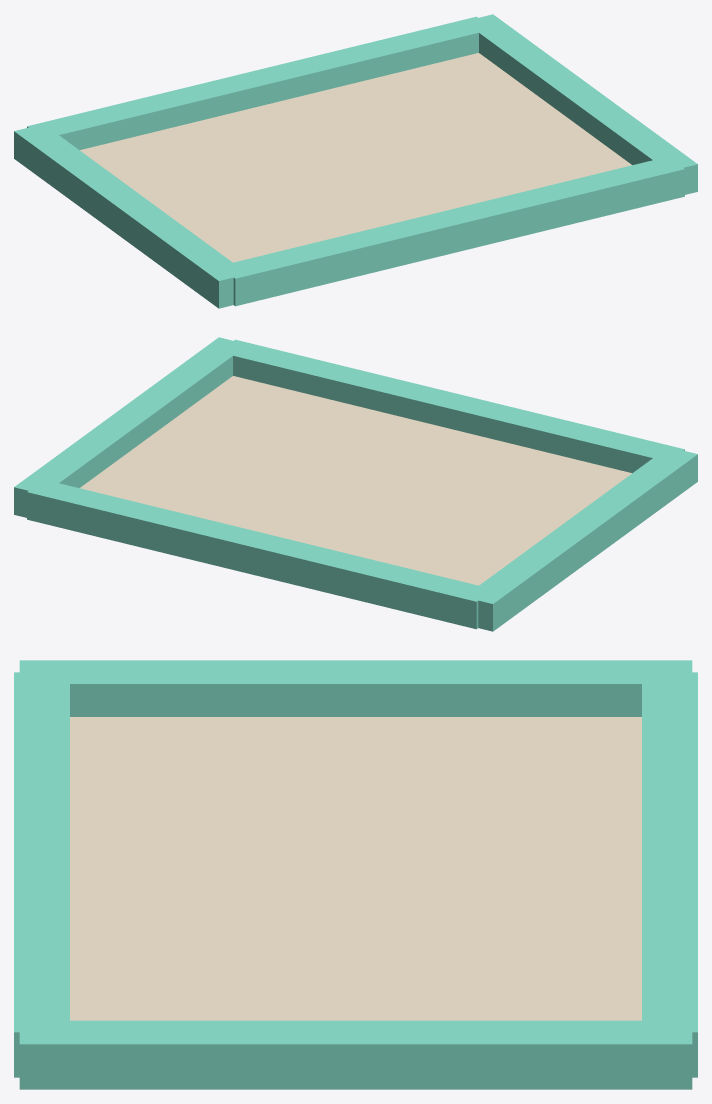
3 renders of one model, top to bottom at view 1: azimuth 30°, elevation 25°; view 2: azimuth 150°, elevation 25°; view 3: azimuth 270°, elevation 25°, orthographic. The views are drawn at different scales.
Visible parts, largest first — view 1: Tray floor, End lip, End lip.001, Side lip, Side lip.001; view 2: Tray floor, End lip.001, End lip, Side lip, Side lip.001; view 3: Tray floor, Side lip.001, Side lip, End lip.001, End lip.
Boxes of the visible parts, left/top/right/bottom form: Tray floor: left=80, top=53, right=631, bottom=262; End lip: left=233, top=160, right=684, bottom=306; End lip.001: left=27, top=16, right=493, bottom=150; Side lip: left=14, top=127, right=247, bottom=308; Side lip.001: left=479, top=14, right=697, bottom=194; Tray floor: left=80, top=376, right=631, bottom=585; End lip.001: left=27, top=479, right=492, bottom=629; End lip: left=233, top=339, right=684, bottom=473; Side lip: left=478, top=447, right=697, bottom=631; Side lip.001: left=14, top=337, right=247, bottom=517; Tray floor: left=70, top=717, right=641, bottom=1020; Side lip.001: left=19, top=1020, right=692, bottom=1089; Side lip: left=19, top=660, right=692, bottom=716; End lip.001: left=642, top=672, right=697, bottom=1077; End lip: left=14, top=672, right=69, bottom=1077.
Size of the model in its own units: 44.55 by 2.63 by 33.55.
